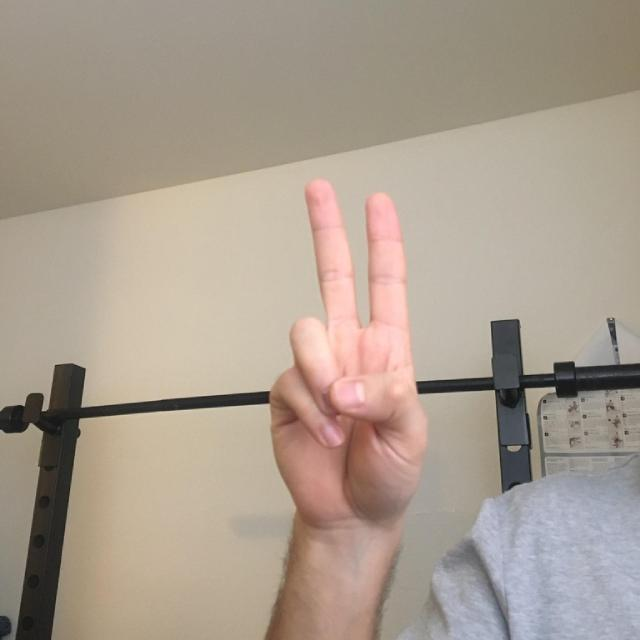V: (238, 158, 492, 538)
